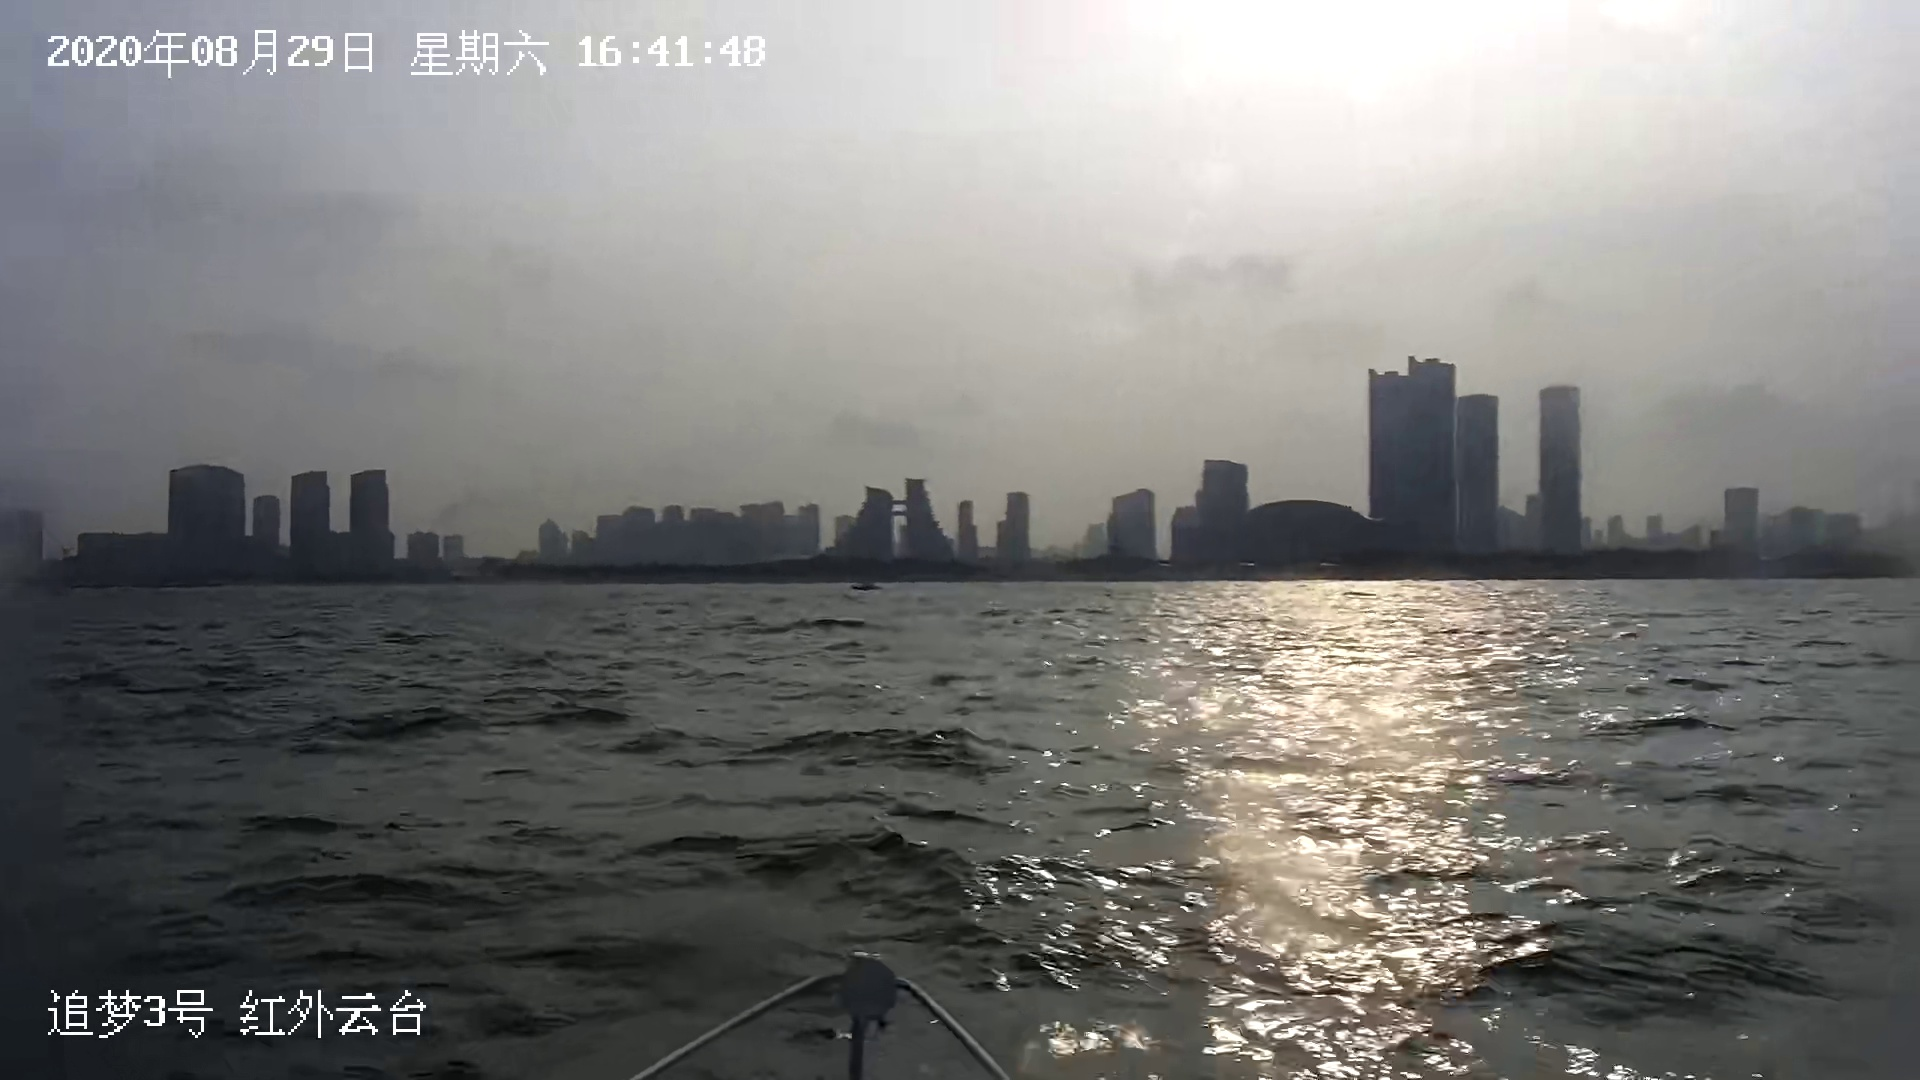coast: (22, 349, 1920, 585)
